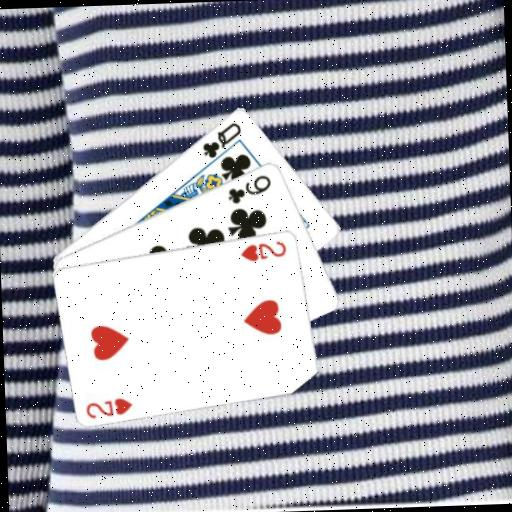2H: (82, 394, 134, 420), (238, 237, 289, 263)
9C: (223, 171, 273, 205)
QC: (198, 118, 243, 160)
